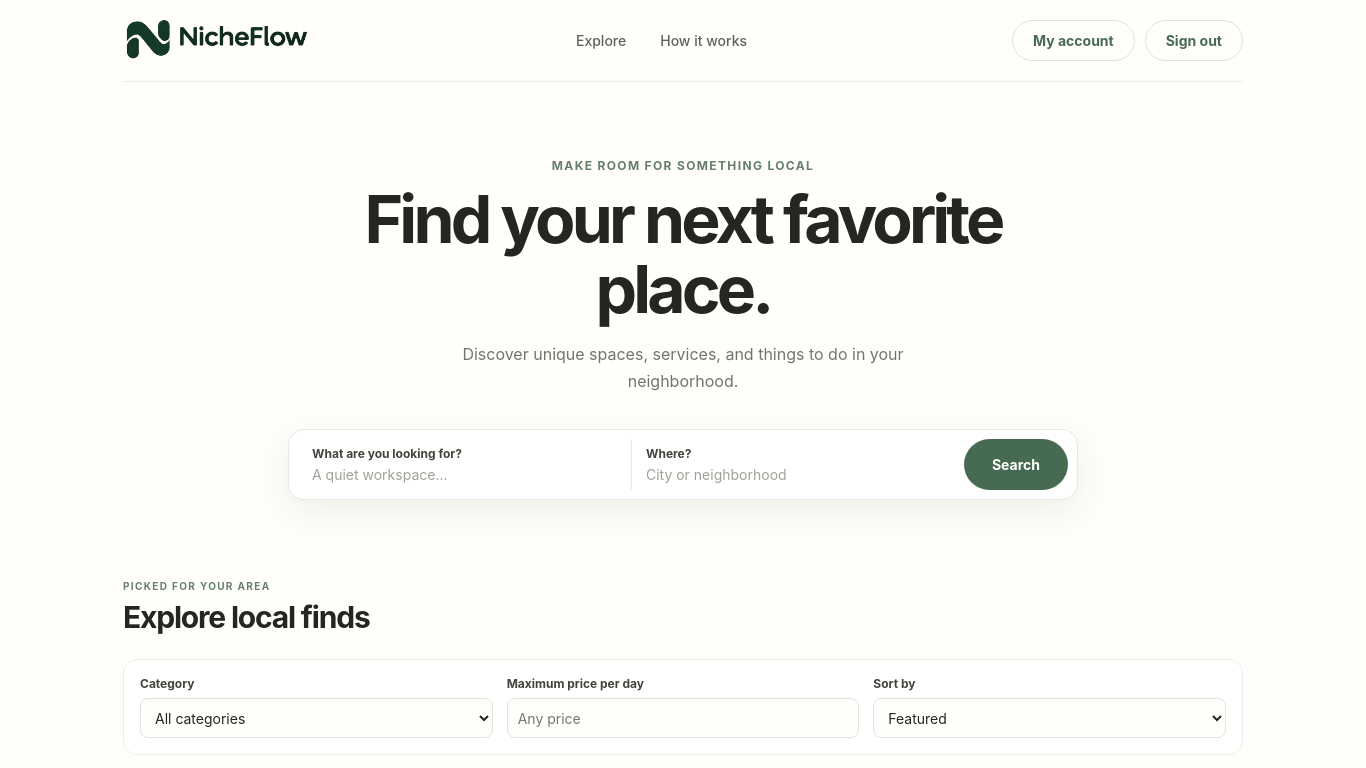
Test: NicheFlow landing page › shows a customer their booking history on the account page
The width and height of the screenshot is (1366, 768).
Click the link "My account": (1073, 40) [1012, 20, 1135, 61]
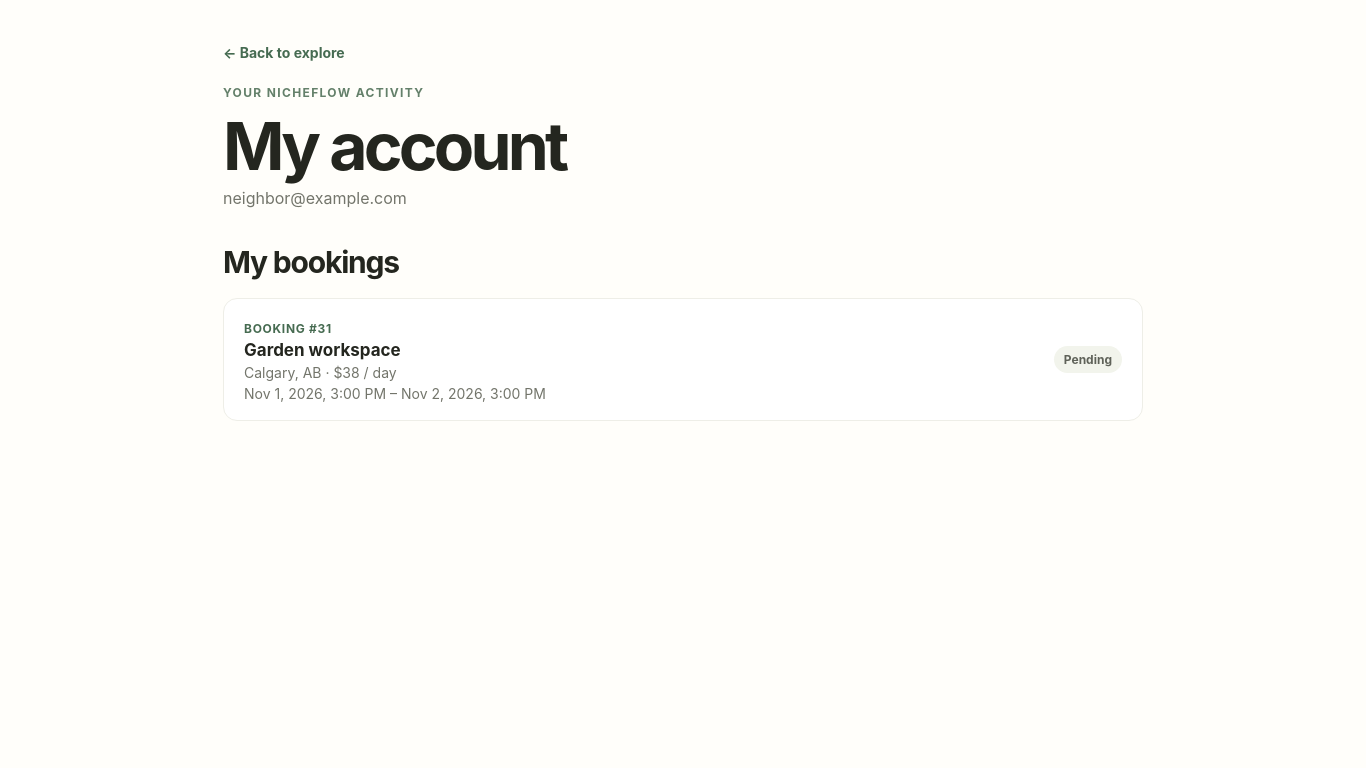
Expected: the heading "My bookings" is shown, [223, 244, 399, 280]
Expected: the heading "Garden workspace" is shown, [244, 340, 401, 360]
Expected: the text "pending" is shown, [1054, 346, 1122, 373]
